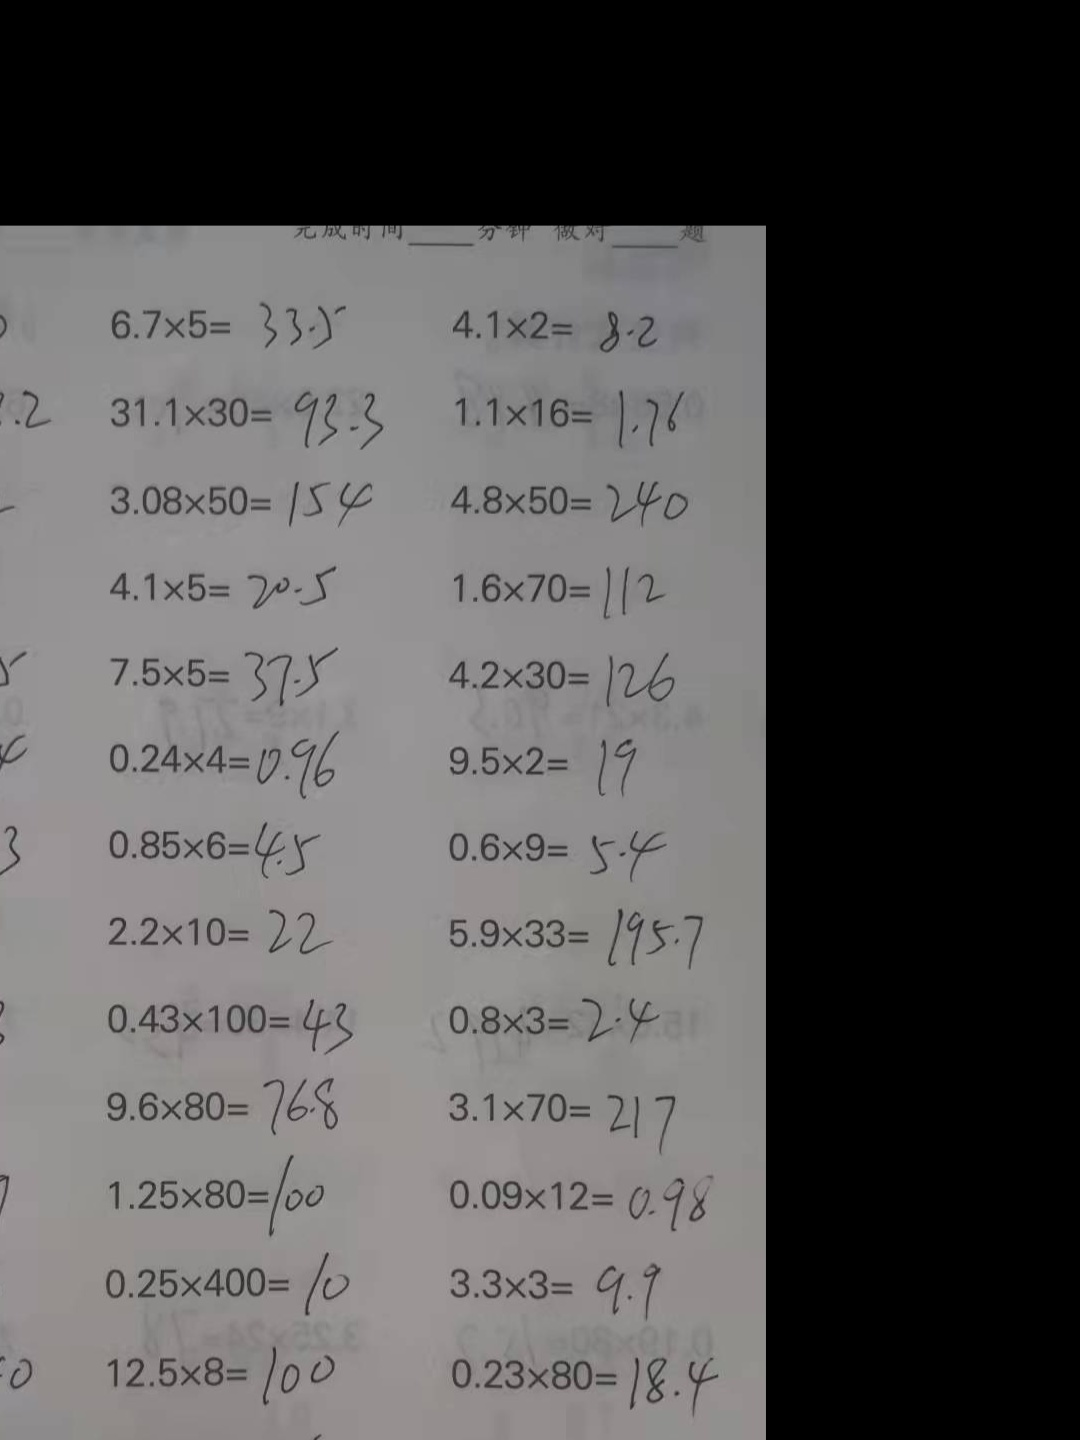equation: (441, 1341, 722, 1421), (103, 382, 391, 452), (441, 1170, 726, 1240), (106, 1153, 331, 1239), (437, 1076, 685, 1153), (101, 1247, 355, 1322), (104, 730, 352, 805), (449, 379, 694, 454), (100, 1073, 354, 1143), (442, 905, 708, 971), (95, 996, 358, 1059), (109, 290, 354, 358), (93, 643, 345, 708), (440, 726, 646, 804), (110, 1342, 346, 1411), (442, 293, 661, 365), (102, 815, 326, 886), (101, 476, 383, 532), (447, 471, 697, 533), (442, 556, 673, 622), (438, 984, 664, 1051), (449, 1256, 666, 1323), (442, 645, 685, 704), (442, 819, 668, 881), (100, 901, 341, 958), (106, 558, 339, 613), (0, 381, 61, 450), (96, 1426, 328, 1440), (0, 1341, 39, 1415), (0, 723, 35, 797), (0, 814, 31, 890), (0, 645, 35, 703), (0, 1166, 20, 1245), (0, 467, 24, 530), (0, 296, 19, 367), (0, 991, 12, 1068), (0, 1255, 12, 1322)
